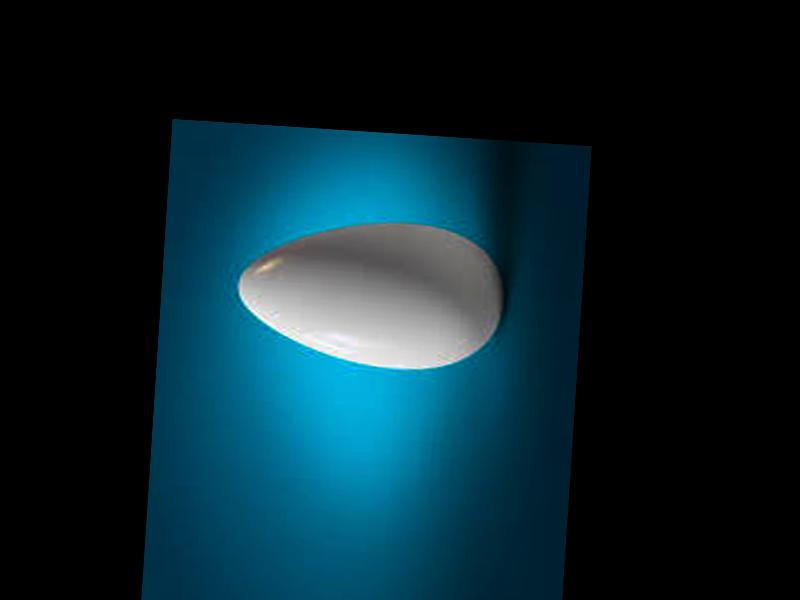Eggs: (235, 211, 509, 376)
